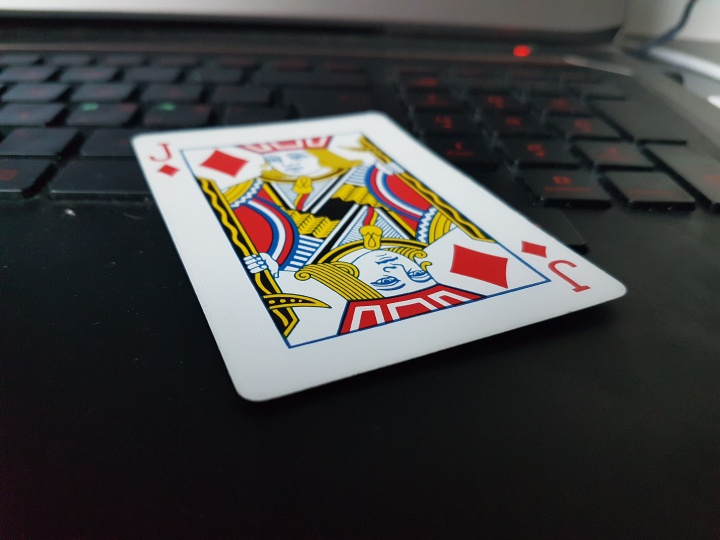jack: (128, 114, 629, 403)
